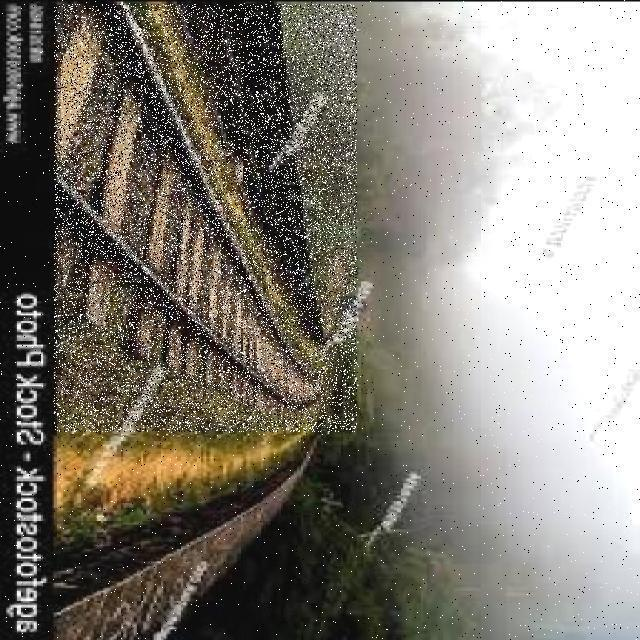rail: (54, 4, 357, 432)
